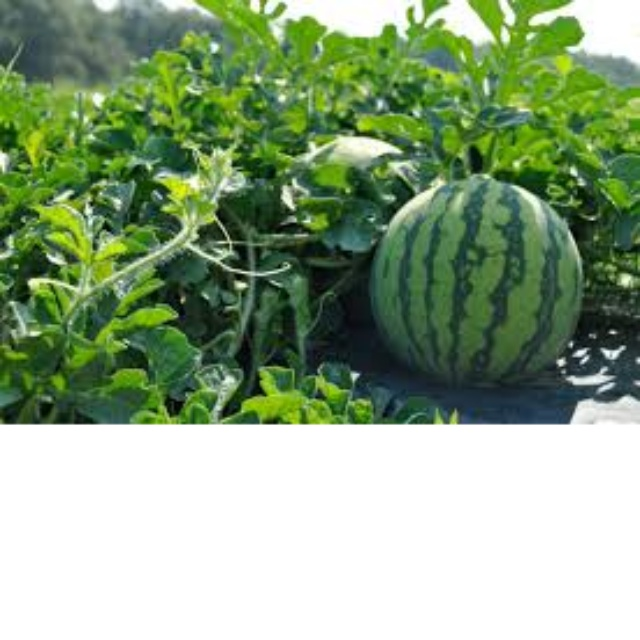dua_hau: (376, 166, 595, 391)
